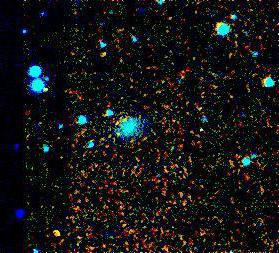star: (37, 71, 67, 101)
